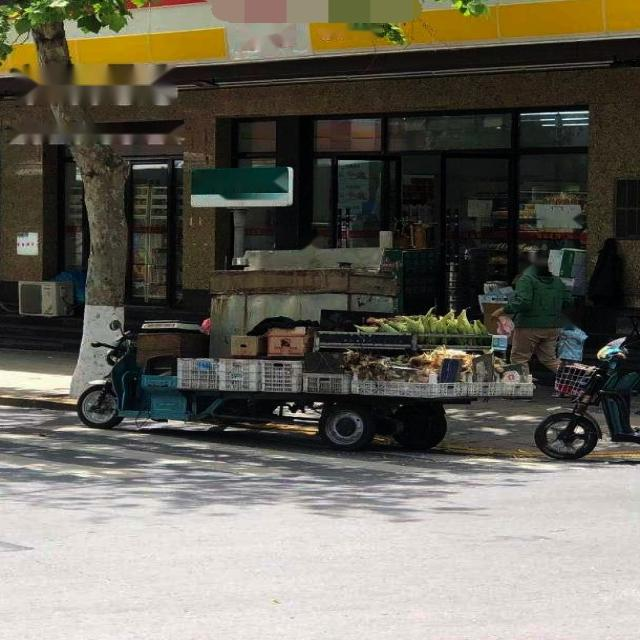car: (73, 316, 480, 450)
fixed_stall: (175, 304, 536, 395)
